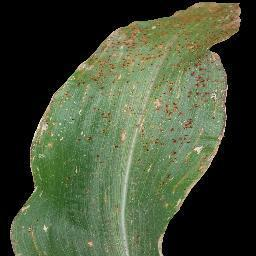Corn_Common_Rust: (123, 0, 250, 256), (53, 9, 122, 151), (23, 97, 51, 187), (1, 218, 51, 255), (97, 176, 120, 222), (19, 199, 38, 218), (67, 163, 85, 179), (93, 151, 109, 169), (83, 239, 98, 249)
